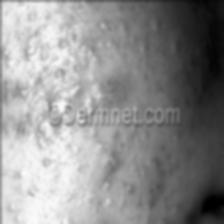Non-Cancerous Skin Condition: (0, 125, 220, 224), (0, 0, 170, 96)
